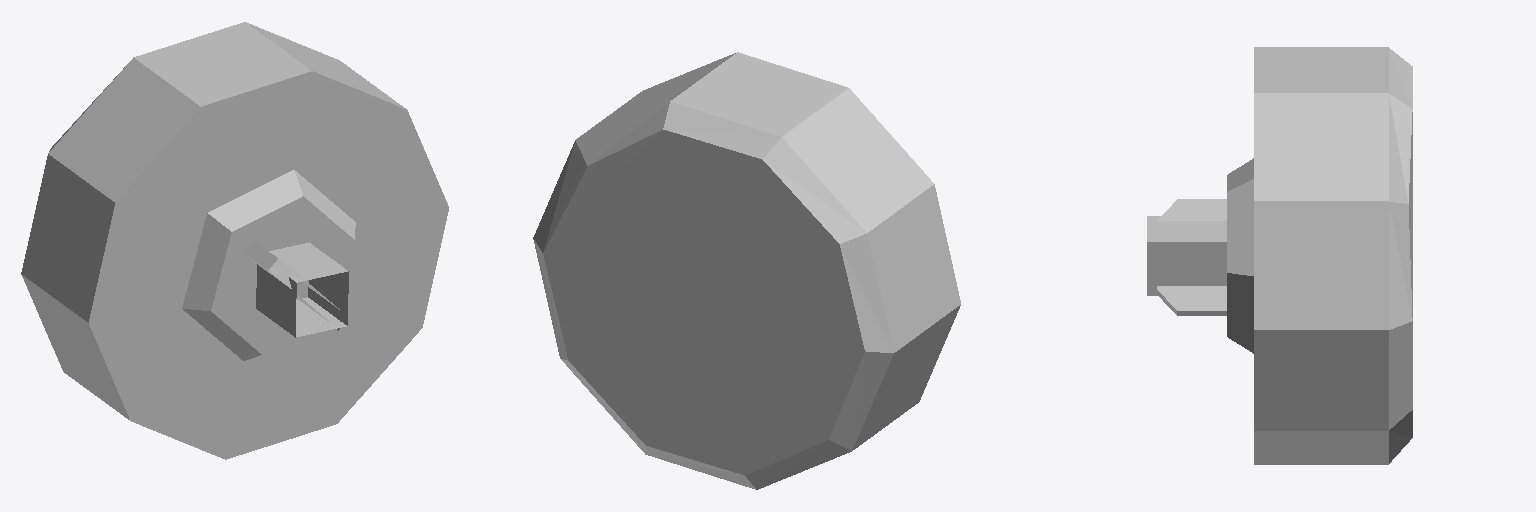
Rendered from wheel83.obj.
The picture shows the model from 3 angles: view 1: azimuth 30°, elevation 25°; view 2: azimuth 150°, elevation 25°; view 3: azimuth 270°, elevation 25°; orthographic projection.
Parts seen in each view (by area): view 1: wheel_low_textures; view 2: wheel_low_textures; view 3: wheel_low_textures.
Boxes of the visible parts, <box> form: wheel_low_textures: <box>21,22,448,459</box>; wheel_low_textures: <box>533,52,960,489</box>; wheel_low_textures: <box>1147,47,1412,464</box>.
Size of the model in its own units: 1.56 by 1.52 by 0.9907.